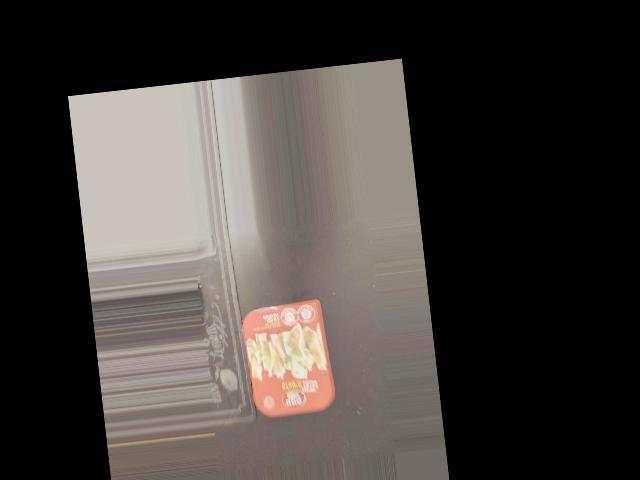cheese: (240, 301, 339, 420)
